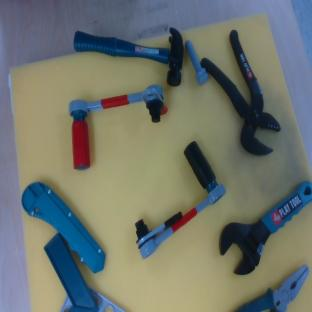non_pass: (105, 140, 233, 260)
pass: (59, 79, 176, 171)
